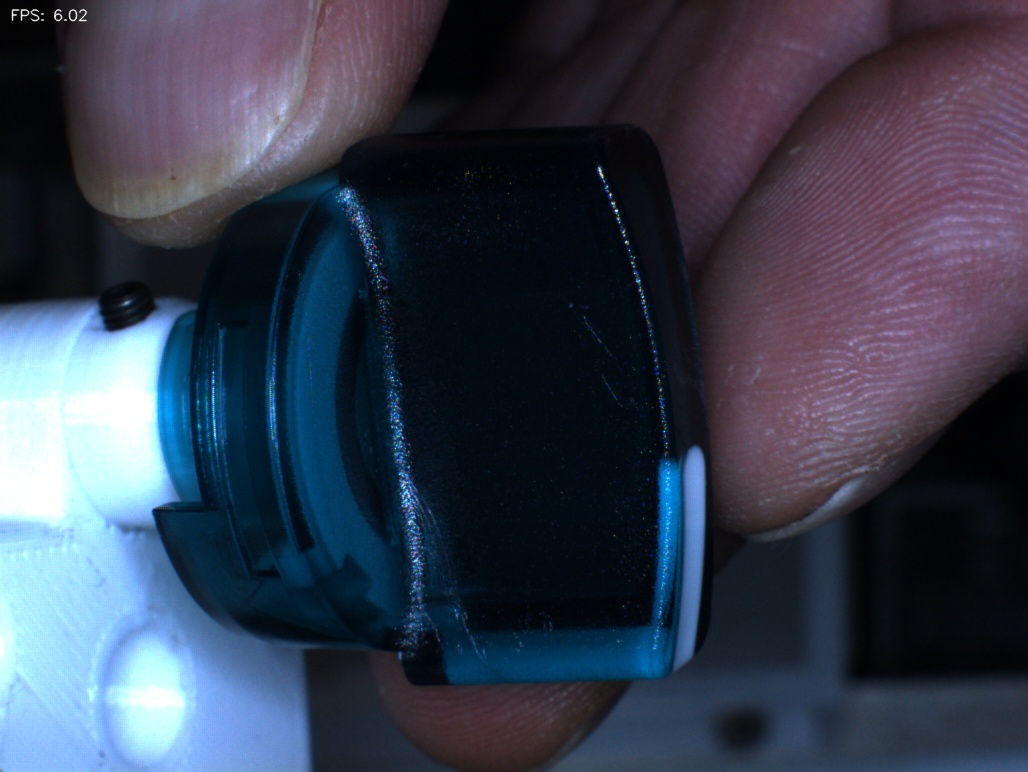Givrage: (416, 488, 501, 674), (571, 301, 643, 436)
